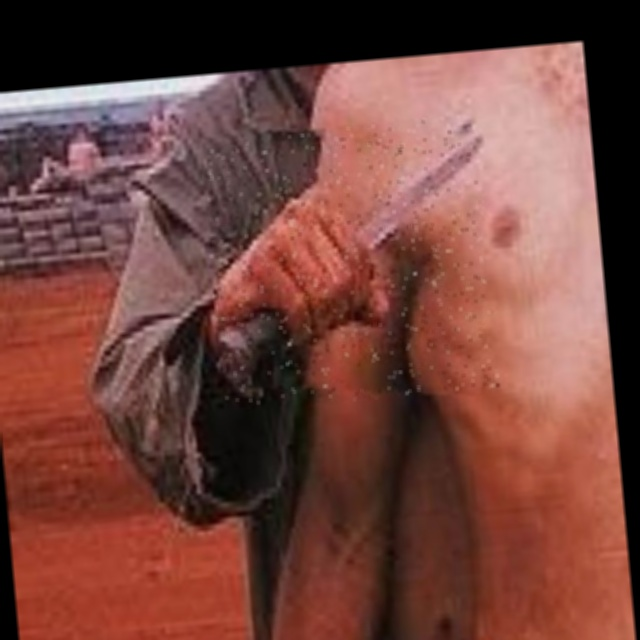Sharp-Object: (197, 114, 498, 411)
